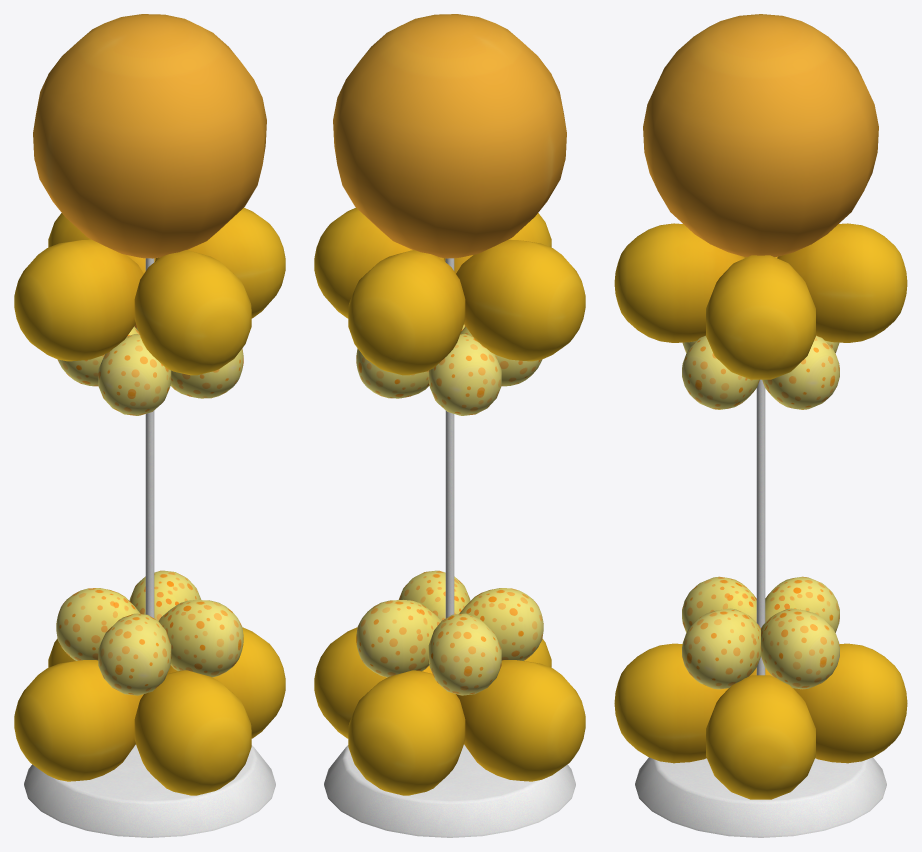
Rendered from PartyBalloons03_GR8_2.FBX.
The picture shows the model from 3 angles, left to right: view 1: azimuth 30°, elevation 25°; view 2: azimuth 150°, elevation 25°; view 3: azimuth 270°, elevation 25°; orthographic projection.
Parts seen in each view (by area): view 1: PartyBalloons03_GR8_2; view 2: PartyBalloons03_GR8_2; view 3: PartyBalloons03_GR8_2.
Boxes of the visible parts, x1,y1,x2,y2 form: PartyBalloons03_GR8_2: [14, 14, 285, 837]; PartyBalloons03_GR8_2: [314, 14, 585, 837]; PartyBalloons03_GR8_2: [614, 14, 907, 837].
Size of what is drawn, in the model's own units: 0.7585 by 2.17 by 0.7585.
